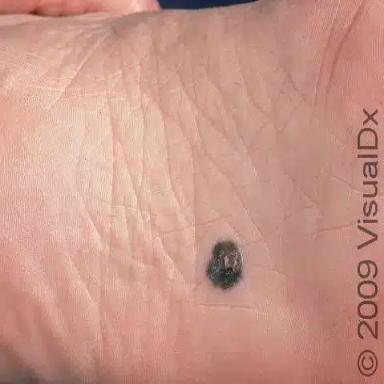Melanoma: (206, 241, 242, 291)
